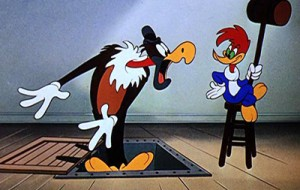picapau: (204, 24, 274, 131)
urubu: (19, 19, 198, 178)
